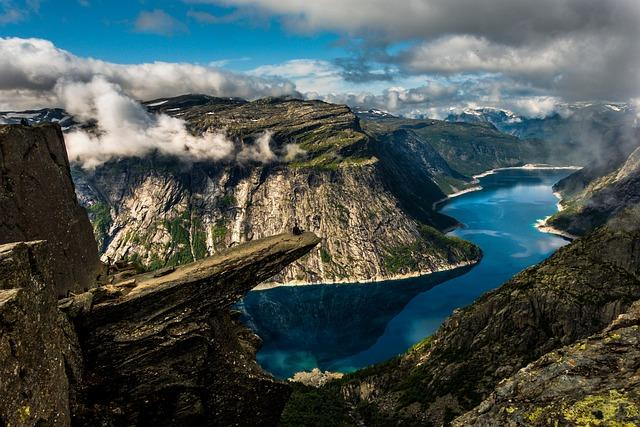Non_Gorille: (141, 118, 550, 375)
